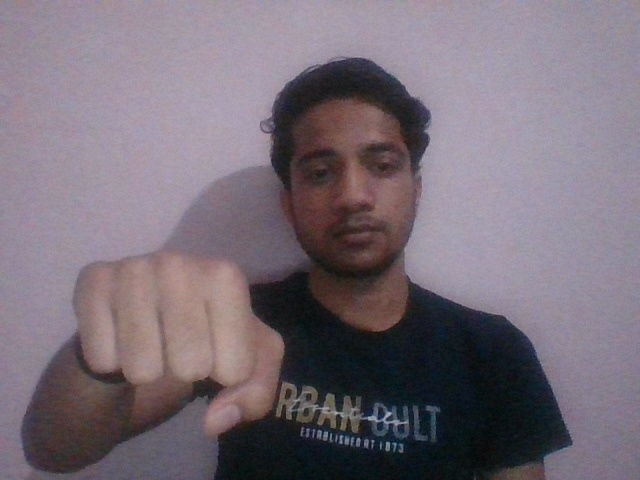yes: (68, 249, 288, 436)
